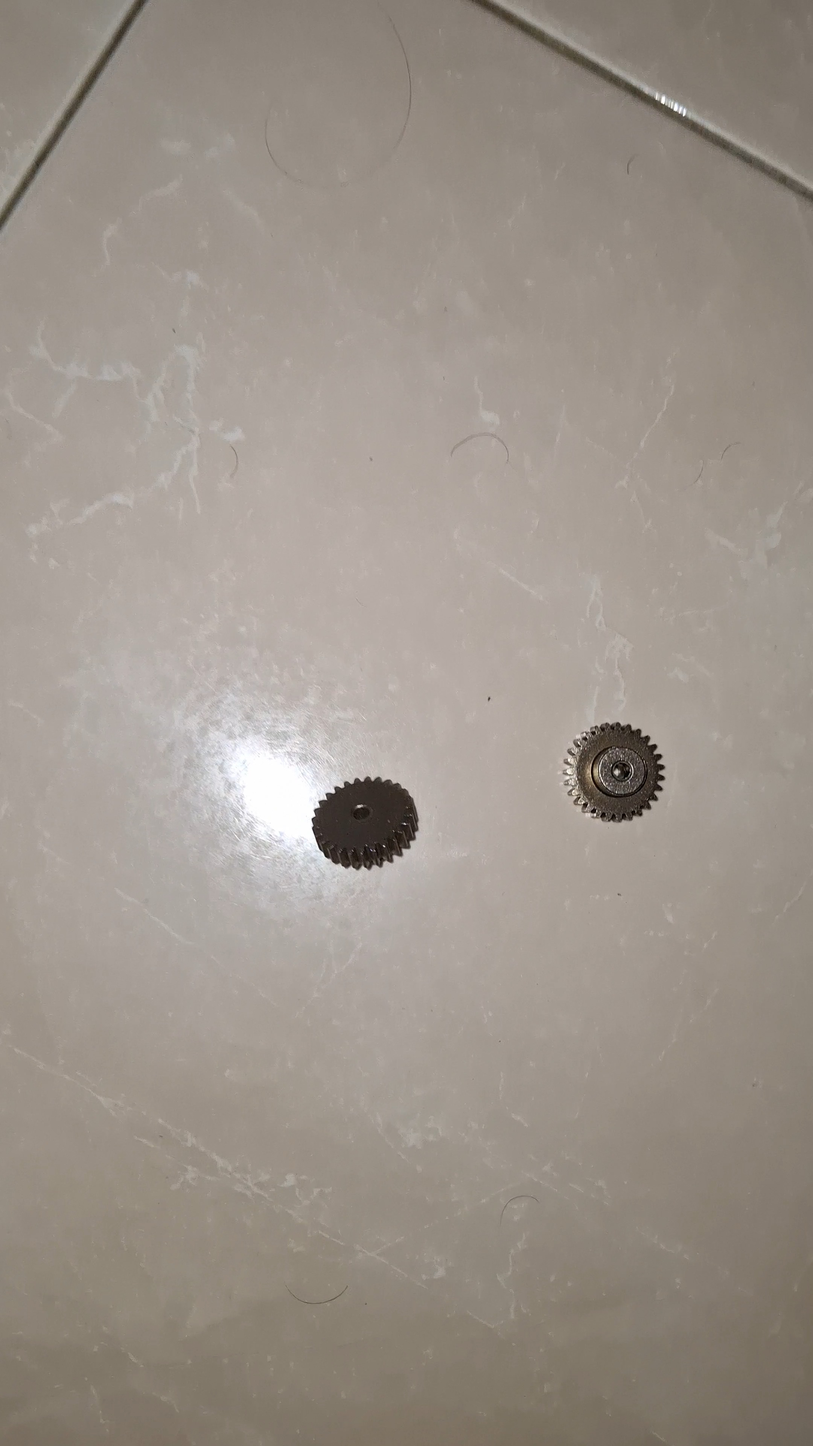spur gear: (312, 777, 417, 868), (565, 723, 662, 821)
